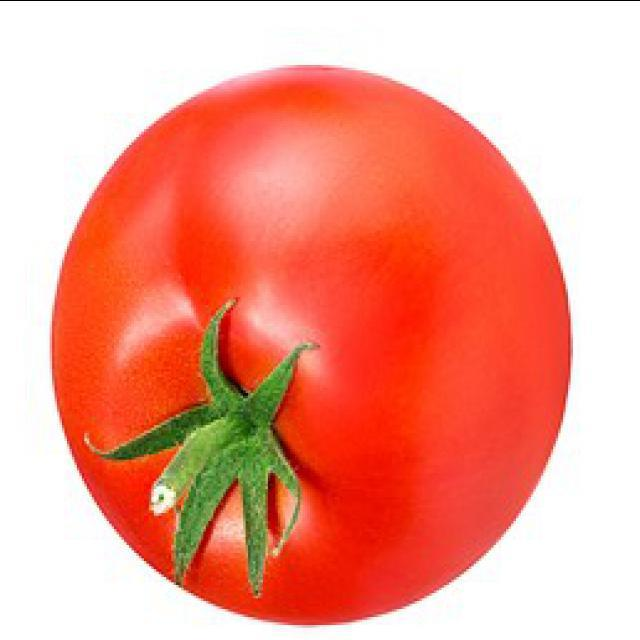Tomato: (48, 66, 574, 629)
